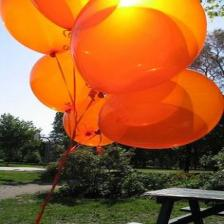green: (100, 69, 224, 149), (30, 51, 113, 147), (1, 0, 70, 54), (33, 0, 89, 30)
orange: (71, 8, 199, 93)
